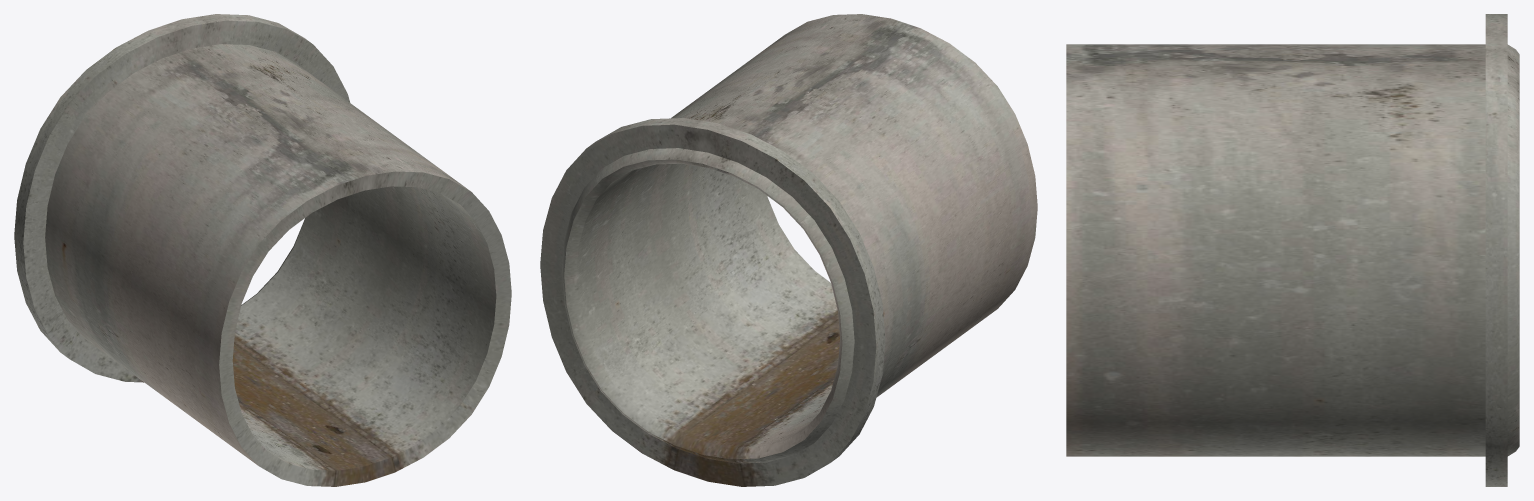
File: Tube_1_entry.002.fbx
3 renders of one model, left to right at view 1: azimuth 30°, elevation 25°; view 2: azimuth 150°, elevation 25°; view 3: azimuth 270°, elevation 25°, orthographic. The views are drawn at different scales.
Parts seen in each view (by area): view 1: Tube_1_entry.002; view 2: Tube_1_entry.002; view 3: Tube_1_entry.002.
Part boxes in pixels (x1,y1,x2,y2): Tube_1_entry.002: [14, 14, 511, 486]; Tube_1_entry.002: [540, 14, 1037, 486]; Tube_1_entry.002: [1066, 14, 1519, 486].
Bounding box in the file's own units: 424 × 424 × 411.
